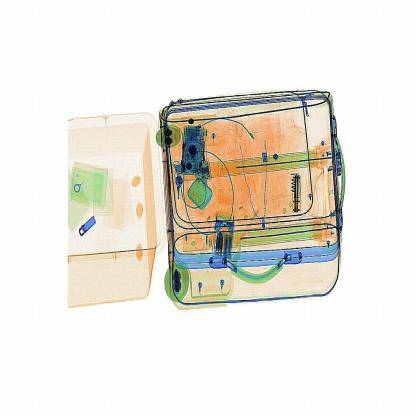scissors: (288, 171, 307, 217)
